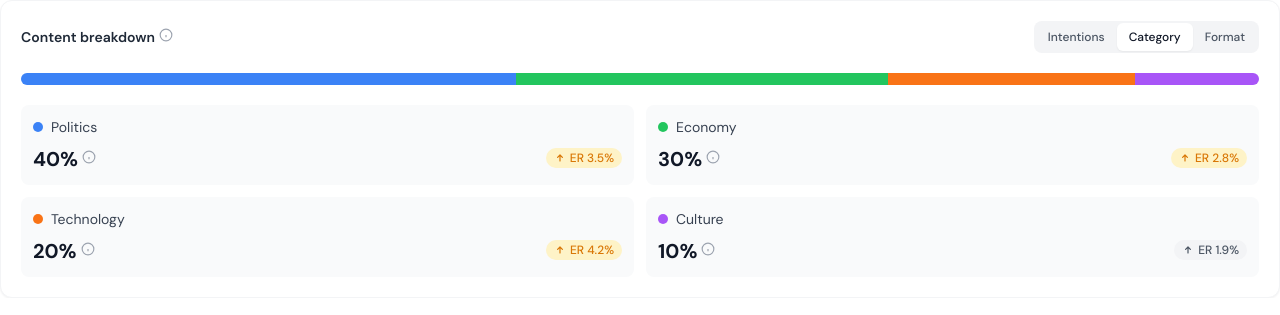
ContentBreakdown › Tab Switching › switches to Intentions tab and shows intentions data
Click the button "Intentions": (1076, 37) [1036, 23, 1117, 51]
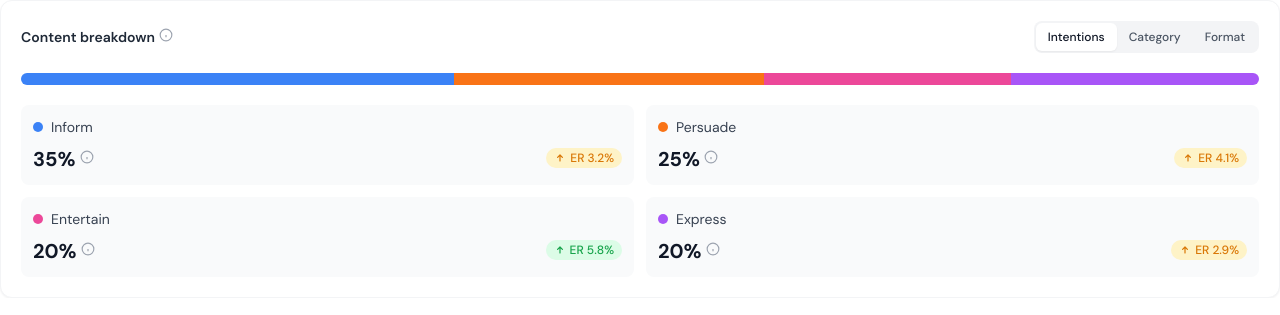
Expected: the text "Inform" is shown, [51, 117, 93, 137]
Expected: the text "Persuade" is shown, [676, 117, 736, 137]
Expected: the text "Entertain" is shown, [51, 209, 110, 229]
